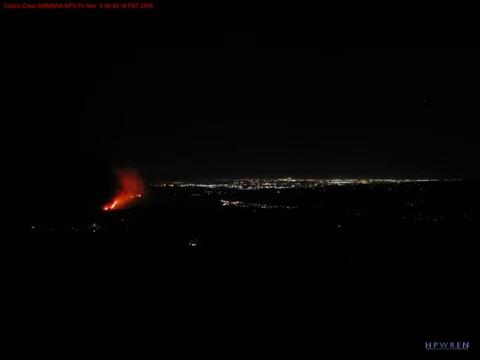fire: (97, 196, 125, 215)
